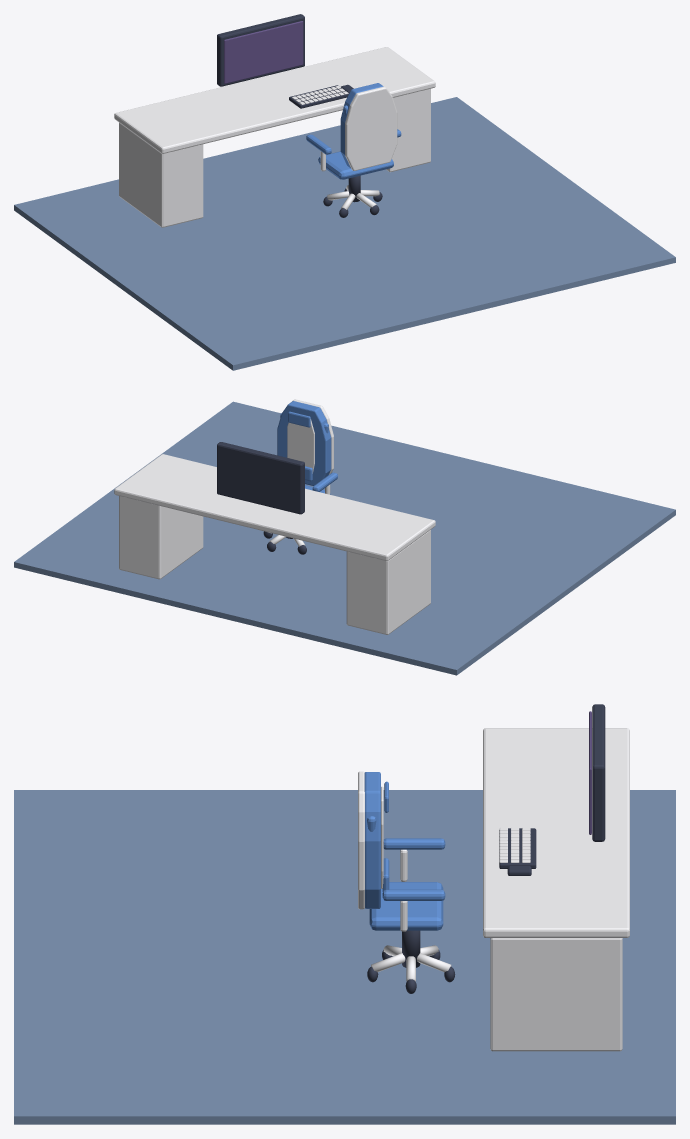
Rendered from fixture-production.glb.
3 renders of one model, top to bottom at view 1: azimuth 30°, elevation 25°; view 2: azimuth 150°, elevation 25°; view 3: azimuth 270°, elevation 25°, orthographic. The views are drawn at different scales.
Visible parts, largest first — view 1: fixture-floor, desk, desk-pedestal, chair-white-shell, monitor-screen-proof, desk-pedestal.001, monitor-proof, chair-seat, chair-back; view 2: fixture-floor, desk, desk-pedestal, desk-pedestal.001, monitor-proof, chair-back, chair-back-insert; view 3: fixture-floor, desk, desk-pedestal.001, chair-seat, chair-back, monitor-proof, chair-white-shell, chair-arm.001, chair-arm, keyboard-proof.
Part boxes in pixels (x1=…): fixture-floor: x1=14, y1=97, x2=675, y2=370; desk: x1=114, y1=47, x2=435, y2=153; desk-pedestal: x1=119, y1=122, x2=203, y2=227; chair-white-shell: x1=345, y1=86, x2=397, y2=170; monitor-screen-proof: x1=224, y1=21, x2=303, y2=83; desk-pedestal.001: x1=386, y1=88, x2=430, y2=172; monitor-proof: x1=217, y1=14, x2=304, y2=86; chair-seat: x1=318, y1=151, x2=393, y2=179; chair-back: x1=340, y1=83, x2=383, y2=168; fixture-floor: x1=14, y1=401, x2=675, y2=675; desk: x1=114, y1=454, x2=435, y2=560; desk-pedestal: x1=346, y1=530, x2=430, y2=634; desk-pedestal.001: x1=119, y1=496, x2=203, y2=579; monitor-proof: x1=217, y1=442, x2=304, y2=514; chair-back: x1=277, y1=401, x2=331, y2=485; chair-back-insert: x1=287, y1=419, x2=314, y2=473; fixture-floor: x1=14, y1=790, x2=675, y2=1124; desk: x1=483, y1=728, x2=629, y2=937; desk-pedestal.001: x1=490, y1=938, x2=622, y2=1051; chair-seat: x1=369, y1=882, x2=443, y2=930; chair-back: x1=364, y1=772, x2=380, y2=908; monitor-proof: x1=592, y1=704, x2=605, y2=841; chair-white-shell: x1=358, y1=771, x2=364, y2=909; chair-arm.001: x1=382, y1=889, x2=445, y2=900; chair-arm: x1=383, y1=838, x2=445, y2=849; keyboard-proof: x1=499, y1=828, x2=536, y2=868.
Size of the model in its own units: 4.2 by 1.36 by 3.6.
